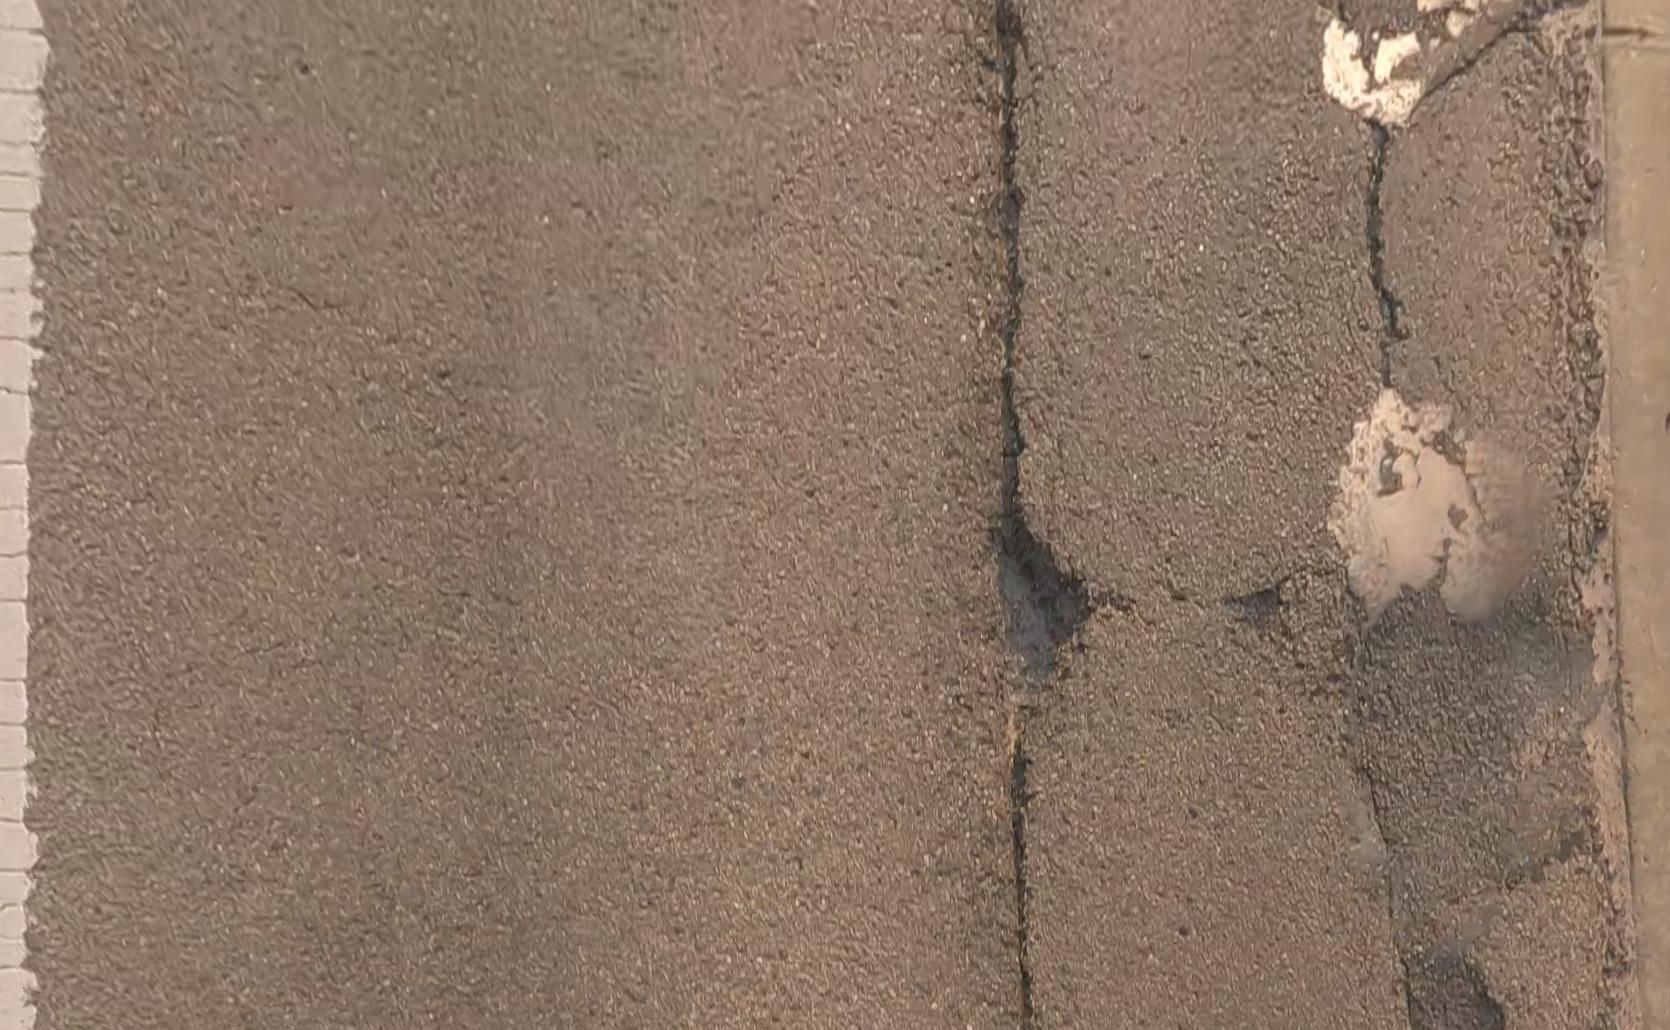pothole: (988, 507, 1091, 720), (1218, 586, 1303, 648)
pothole_patch_good: (1328, 396, 1633, 1028), (1326, 16, 1427, 123)
